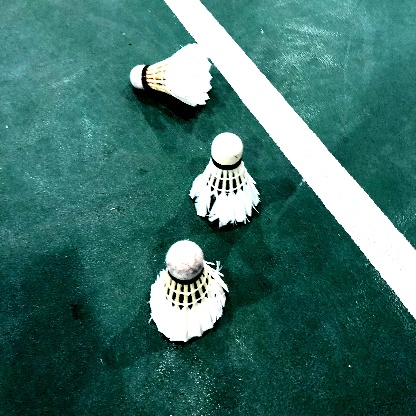ball_single: (149, 240, 229, 342), (189, 132, 260, 227), (130, 43, 212, 106)
